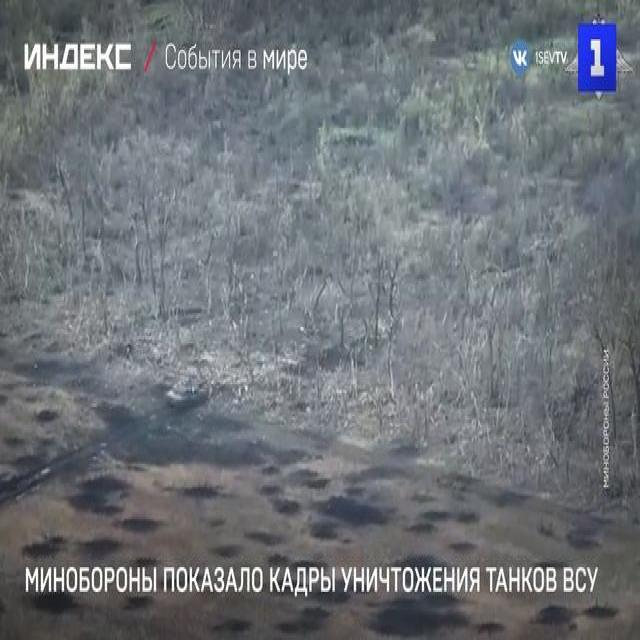tank: (166, 382, 208, 414), (524, 238, 561, 264)
